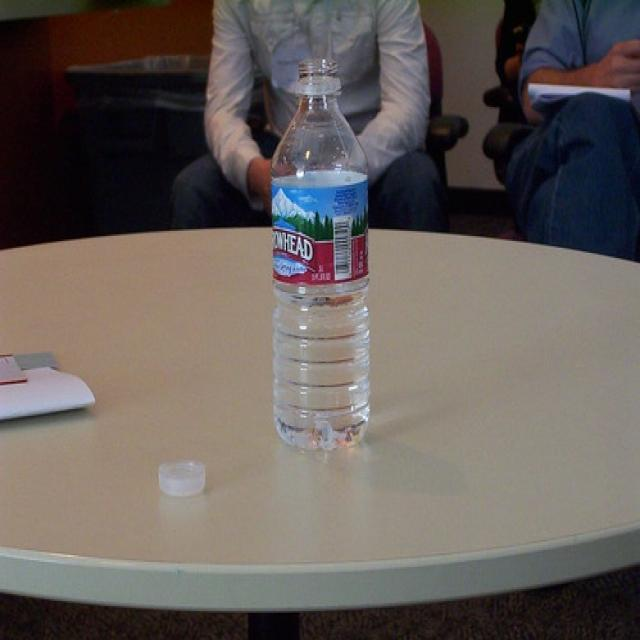plastic_bottle: (271, 56, 369, 450)
